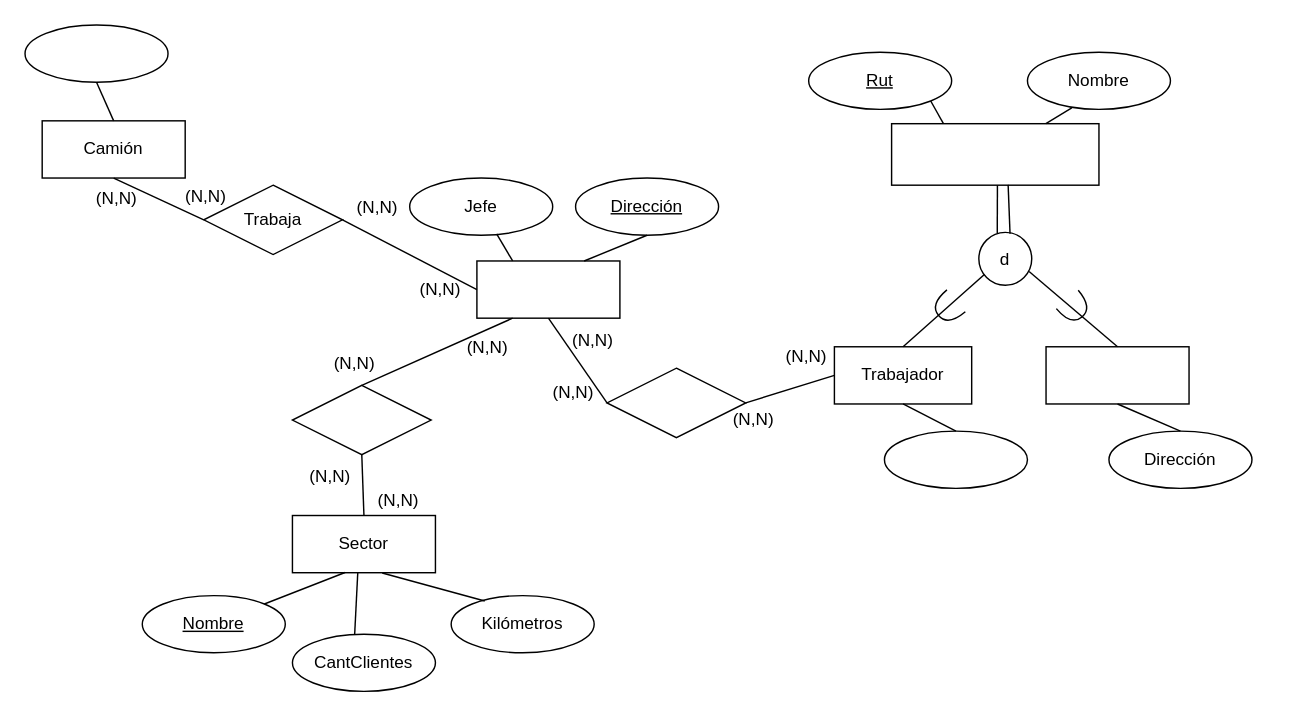
Image size: 1300x716. Some labels were removed from this diagram. The shapes that lost their labels are listed below. From the top down, each one's centre as x and y in pixels, then its label:
At (96,53): "Patente".
At (994,153): "Persona".
At (547,289): "Sucursal".
At (1117,374): "Cliente".
At (361,419): "Reparte".
At (676,402): "Pertenece".
At (955,459): "Email".
